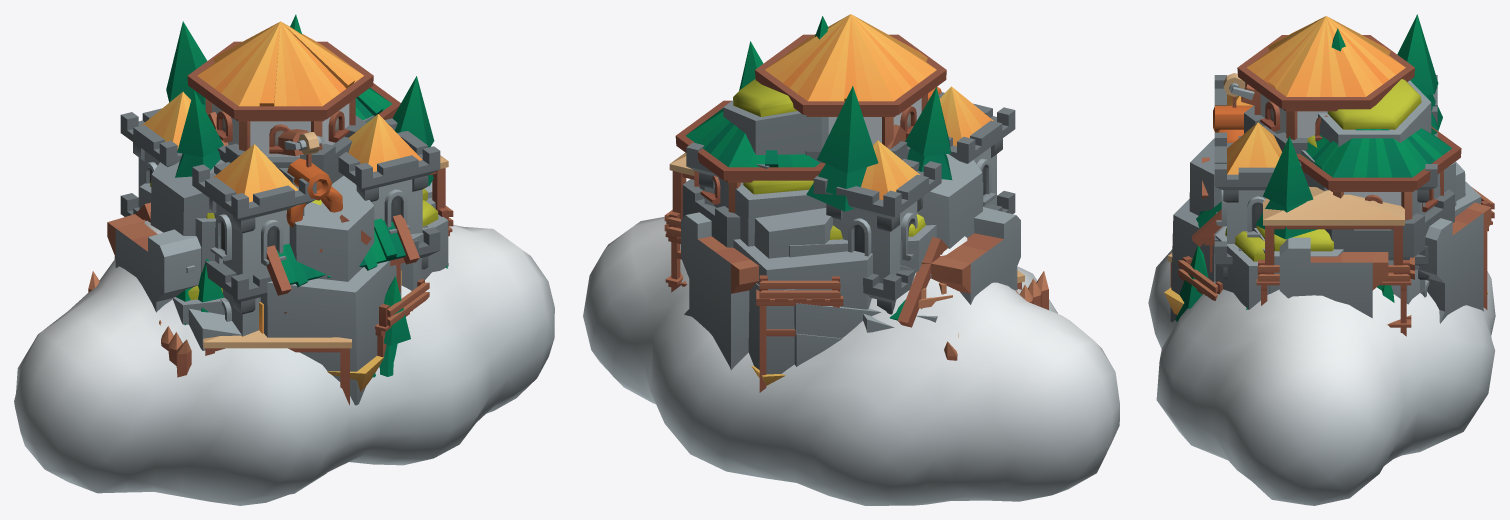
File: cenario.glb
3 renders of one model, left to right at view 1: azimuth 30°, elevation 25°; view 2: azimuth 150°, elevation 25°; view 3: azimuth 270°, elevation 25°, orthographic. The views are drawn at different scales.
Parts seen in each view (by area): view 1: nuvem__cloud_big, quartel__building_barracks_yellow, montanha_c__mountain_C, torre_vigia__building_tower_A_top_yellow, montanha__mountain_A_grass_trees, andaime__building_scaffolding, building_watermill_green, serraria__building_lumbermill_top_yellow, muro_canto__wall_corner_A_outside, wall_straight_gate, building_tower_A_yellow, arvores_g__trees_A_large (+6 smaller); view 2: nuvem__cloud_big, quartel__building_barracks_yellow, torre_vigia__building_tower_A_top_yellow, muro_canto__wall_corner_A_outside, montanha_c__mountain_C, montanha_b__mountain_B_grass, arquearia__building_archeryrange_green, montanha__mountain_A_grass_trees, andaime__building_scaffolding, mina__building_mine_green, montanha_nua__mountain_A, muro__wall_straight (+1 smaller); view 3: nuvem__cloud_big, torre_vigia__building_tower_A_top_yellow, arquearia__building_archeryrange_green, andaime__building_scaffolding, quartel__building_barracks_yellow, montanha_b__mountain_B_grass, montanha__mountain_A_grass_trees, muro_canto__wall_corner_A_outside, muro__wall_straight, montanha_c__mountain_C, serraria__building_lumbermill_top_yellow, wall_straight_gate (+4 smaller).
Part boxes in pixels (x1,y1,x2,y2): nuvem__cloud_big: [14, 220, 554, 505]; quartel__building_barracks_yellow: [120, 92, 440, 336]; montanha_c__mountain_C: [150, 159, 422, 405]; torre_vigia__building_tower_A_top_yellow: [187, 21, 373, 156]; montanha__mountain_A_grass_trees: [150, 14, 447, 290]; andaime__building_scaffolding: [203, 155, 453, 405]; building_watermill_green: [266, 214, 419, 313]; serraria__building_lumbermill_top_yellow: [208, 112, 342, 227]; muro_canto__wall_corner_A_outside: [107, 214, 191, 312]; wall_straight_gate: [156, 181, 432, 311]; building_tower_A_yellow: [217, 115, 366, 183]; arvores_g__trees_A_large: [176, 265, 447, 376]; nuvem__cloud_big: [583, 217, 1119, 505]; quartel__building_barracks_yellow: [686, 86, 1015, 314]; torre_vigia__building_tower_A_top_yellow: [755, 14, 946, 147]; muro_canto__wall_corner_A_outside: [681, 208, 1020, 370]; montanha_c__mountain_C: [733, 154, 1017, 309]; montanha_b__mountain_B_grass: [699, 79, 937, 365]; arquearia__building_archeryrange_green: [675, 100, 947, 327]; montanha__mountain_A_grass_trees: [739, 16, 952, 366]; andaime__building_scaffolding: [664, 152, 1024, 392]; mina__building_mine_green: [748, 265, 931, 374]; montanha_nua__mountain_A: [789, 183, 983, 366]; muro__wall_straight: [933, 207, 1013, 269]; nuvem__cloud_big: [1148, 249, 1495, 505]; torre_vigia__building_tower_A_top_yellow: [1237, 16, 1414, 141]; arquearia__building_archeryrange_green: [1296, 126, 1461, 304]; andaime__building_scaffolding: [1167, 187, 1494, 336]; quartel__building_barracks_yellow: [1214, 75, 1437, 293]; montanha_b__mountain_B_grass: [1245, 79, 1456, 293]; montanha__mountain_A_grass_trees: [1215, 14, 1442, 292]; muro_canto__wall_corner_A_outside: [1417, 202, 1491, 323]; muro__wall_straight: [1279, 237, 1388, 317]; montanha_c__mountain_C: [1170, 138, 1481, 322]; serraria__building_lumbermill_top_yellow: [1213, 73, 1254, 142]; wall_straight_gate: [1279, 239, 1387, 317].
Bounding box in the file's own units: 3.61 × 3.1 × 2.24.
Materials: 1 (1 with a texture image).
